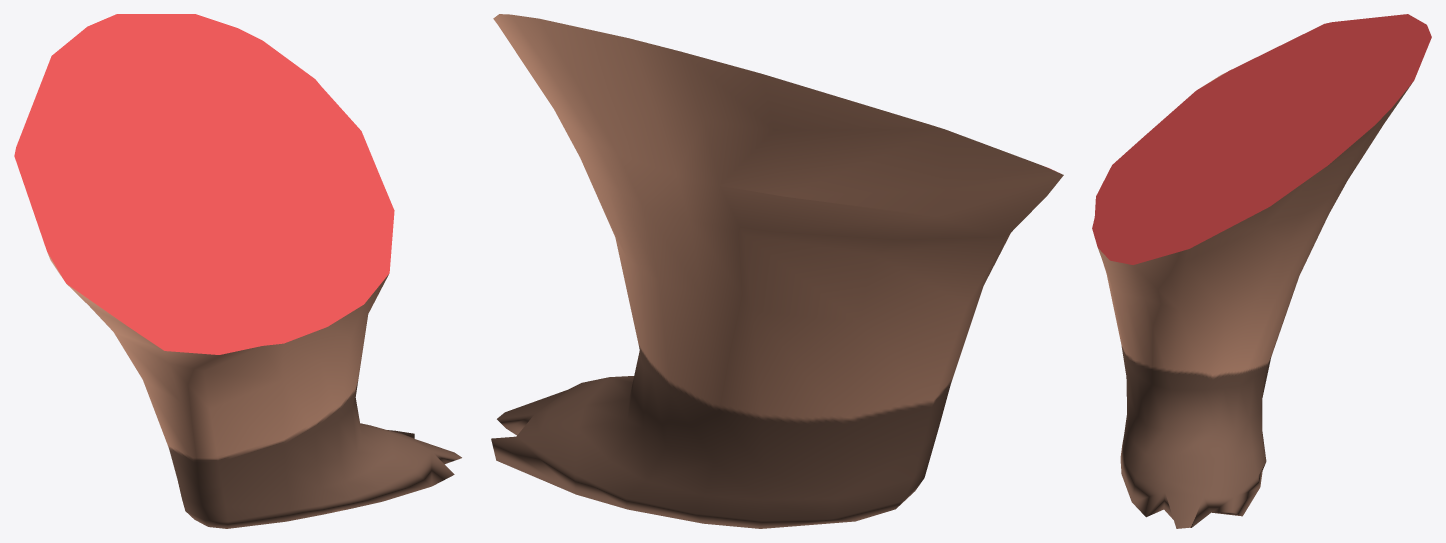
Rendered from lLeg.obj.
3 views of the same model, side by side, from view 1: azimuth 30°, elevation 25°; view 2: azimuth 150°, elevation 25°; view 3: azimuth 270°, elevation 25° (orthographic). The views are drawn at different scales.
Visible parts, largest first — view 1: Fox_Final_Low.006_Fox_Final_Low.007; view 2: Fox_Final_Low.006_Fox_Final_Low.007; view 3: Fox_Final_Low.006_Fox_Final_Low.007.
Boxes of the visible parts, left/top/right/bottom form: Fox_Final_Low.006_Fox_Final_Low.007: left=14, top=14, right=461, bottom=528; Fox_Final_Low.006_Fox_Final_Low.007: left=491, top=14, right=1063, bottom=528; Fox_Final_Low.006_Fox_Final_Low.007: left=1092, top=14, right=1431, bottom=528.
Bounding box in the file's own units: 1.5 × 1.49 × 1.16.
